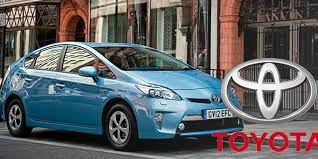Toyota: (1, 43, 222, 146)
